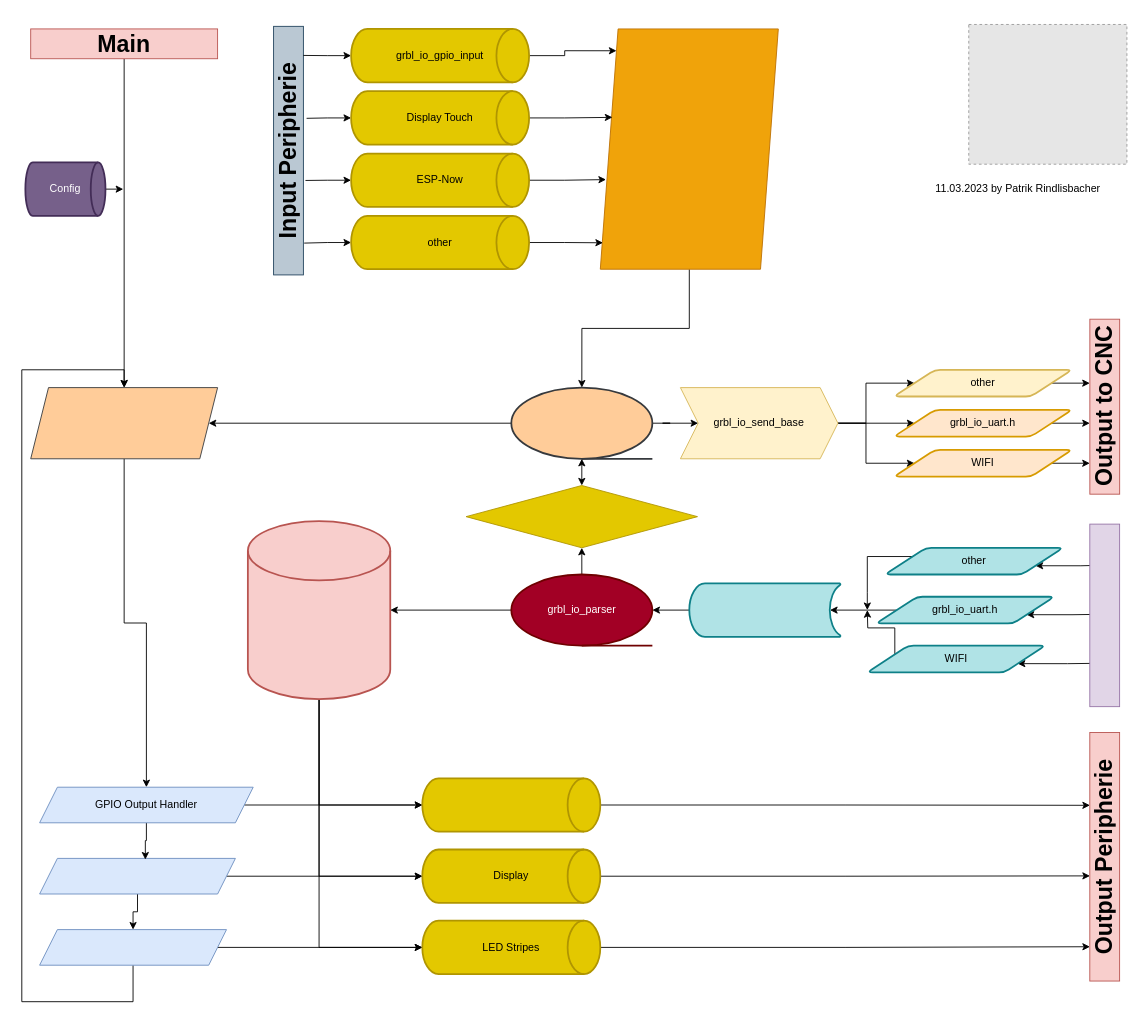
This 1143x1024 diagram has some shape labels left out. Grey dashed boxes stand in for pictures. The shapes that lost their labels are listed below. From the top down, each one's centre as x and y in pixels, then its label:
At (x=688, y=148): "grbl_io_send_command".
At (x=124, y=423): "grbl_io_send_Handler".
At (x=581, y=422): "grbl_io_send_buffer".
At (x=581, y=516): "monitoring response confirmation".
At (x=319, y=610): "Maschine_State State MPos WCO WPos other".
At (x=764, y=609): "grbl_io_receive_base".
At (x=1104, y=615): "Input from CNC".
At (x=511, y=804): "grbl_io_gpio_output".
At (x=137, y=876): "Display Handler".
At (x=133, y=947): "LED Handler".
